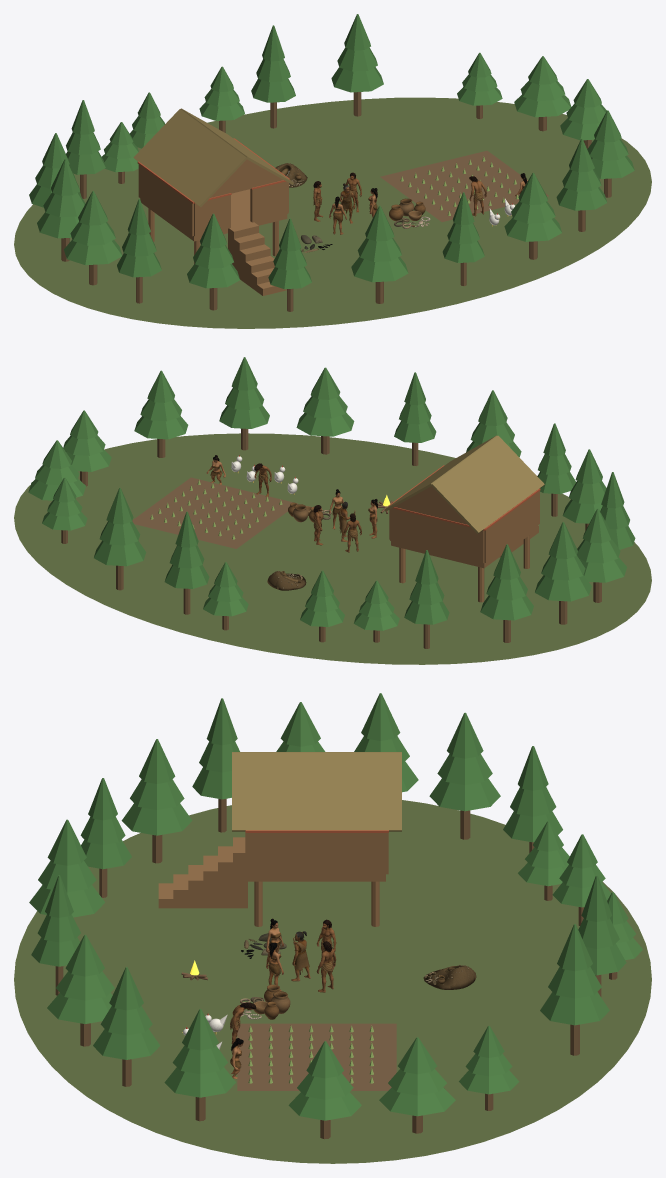
Rendered from neolitikum.glb.
3 renders of one model, top to bottom at view 1: azimuth 30°, elevation 25°; view 2: azimuth 150°, elevation 25°; view 3: azimuth 270°, elevation 25°, orthographic. The views are drawn at different scales.
Parts seen in each view (by area): view 1: GEO-tanah_kampung, rumah_atap_kiri, ladang_neo_tanah, pohon_15, pohon_11, pohon_4, pohon_17, pohon_13, pohon_10, pohon_18, pohon_2, pohon_12 (+23 smaller); view 2: GEO-tanah_kampung, ladang_neo_tanah, rumah_atap_kiri, rumah_dinding_belakang, pohon_10, pohon_4, pohon_9, pohon_17, pohon_11, pohon_19, pohon_18, pohon_5 (+19 smaller); view 3: GEO-tanah_kampung, rumah_atap_kanan, ladang_neo_tanah, rumah_dinding_kanan, pohon_4, pohon_9, pohon_13, pohon_17, pohon_19, pohon_18, pohon_2, pohon_1 (+20 smaller).
Part boxes in pixels (<box>): GEO-tanah_kampung: <box>14,97,651,328</box>; rumah_atap_kiri: <box>133,109,246,206</box>; ladang_neo_tanah: <box>380,150,548,221</box>; pohon_15: <box>351,205,408,303</box>; pohon_11: <box>64,191,122,285</box>; pohon_4: <box>331,14,383,116</box>; pohon_17: <box>504,172,561,259</box>; pohon_13: <box>187,213,239,310</box>; pohon_10: <box>37,159,85,261</box>; pohon_18: <box>556,138,607,231</box>; pohon_2: <box>514,56,571,131</box>; pohon_12: <box>117,199,161,303</box>; GEO-tanah_kampung: <box>14,433,651,664</box>; ladang_neo_tanah: <box>132,477,297,548</box>; rumah_atap_kiri: <box>431,435,544,533</box>; rumah_dinding_belakang: <box>390,508,484,563</box>; pohon_10: <box>535,522,591,624</box>; pohon_4: <box>94,488,146,590</box>; pohon_9: <box>480,544,533,642</box>; pohon_17: <box>296,367,354,454</box>; pohon_11: <box>577,508,626,602</box>; pohon_19: <box>134,370,188,457</box>; pohon_18: <box>219,357,269,450</box>; pohon_5: <box>164,511,209,614</box>; GEO-tanah_kampung: <box>14,800,651,1163</box>; rumah_atap_kanan: <box>232,752,401,831</box>; ladang_neo_tanah: <box>237,1023,396,1090</box>; rumah_dinding_kanan: <box>248,833,385,875</box>; pohon_4: <box>540,924,609,1055</box>; pohon_9: <box>429,712,500,839</box>; pohon_13: <box>121,739,192,863</box>; pohon_17: <box>47,934,114,1046</box>; pohon_19: <box>164,1009,235,1121</box>; pohon_18: <box>93,967,160,1086</box>; pohon_2: <box>379,1037,455,1133</box>; pohon_1: <box>288,1041,361,1139</box>.
Size of the model in its own units: 16.4 by 3.18 by 12.
Materials: 19 (6 with a texture image).
